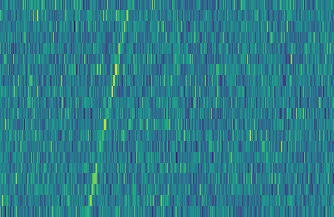signal: (81, 0, 135, 217)
